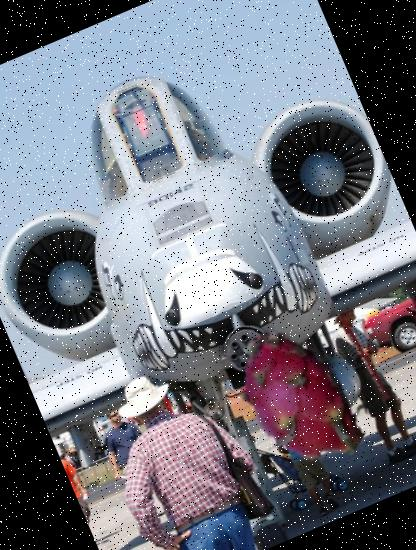Pitahaya: (200, 308, 394, 500)
